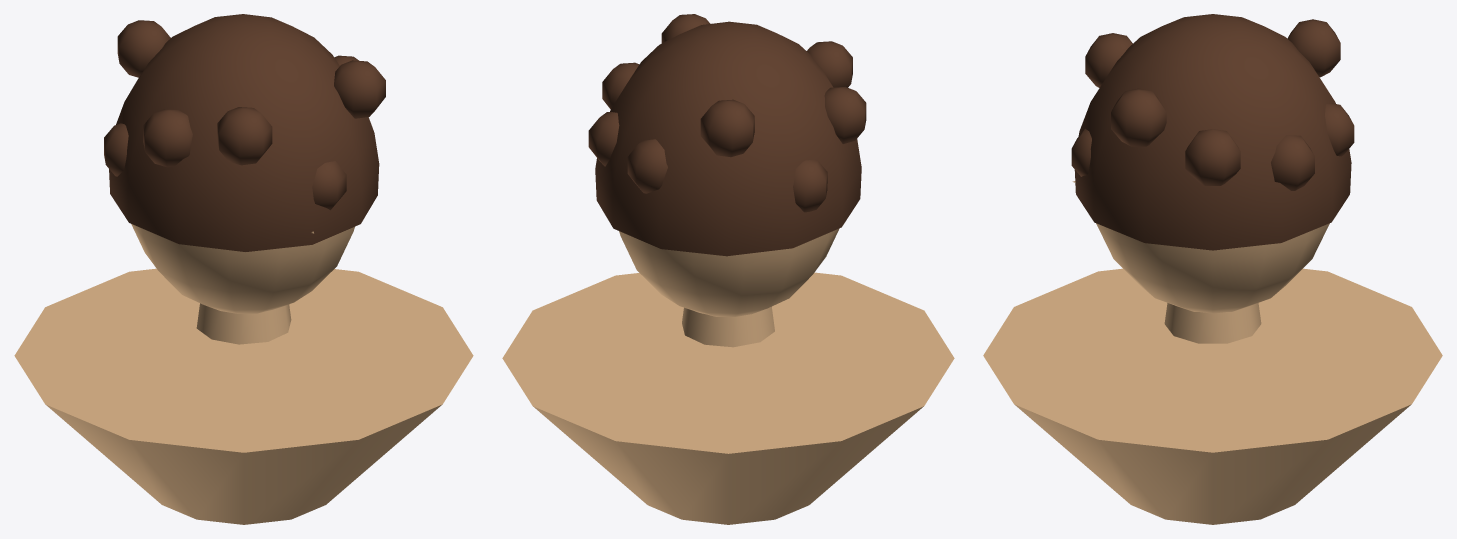
The model's file is raw_001.glb.
3 views of the same model, side by side, from view 1: azimuth 30°, elevation 25°; view 2: azimuth 150°, elevation 25°; view 3: azimuth 270°, elevation 25° (orthographic).
Bounding box in the file's own units: 1.99 × 2.2 × 1.99.
